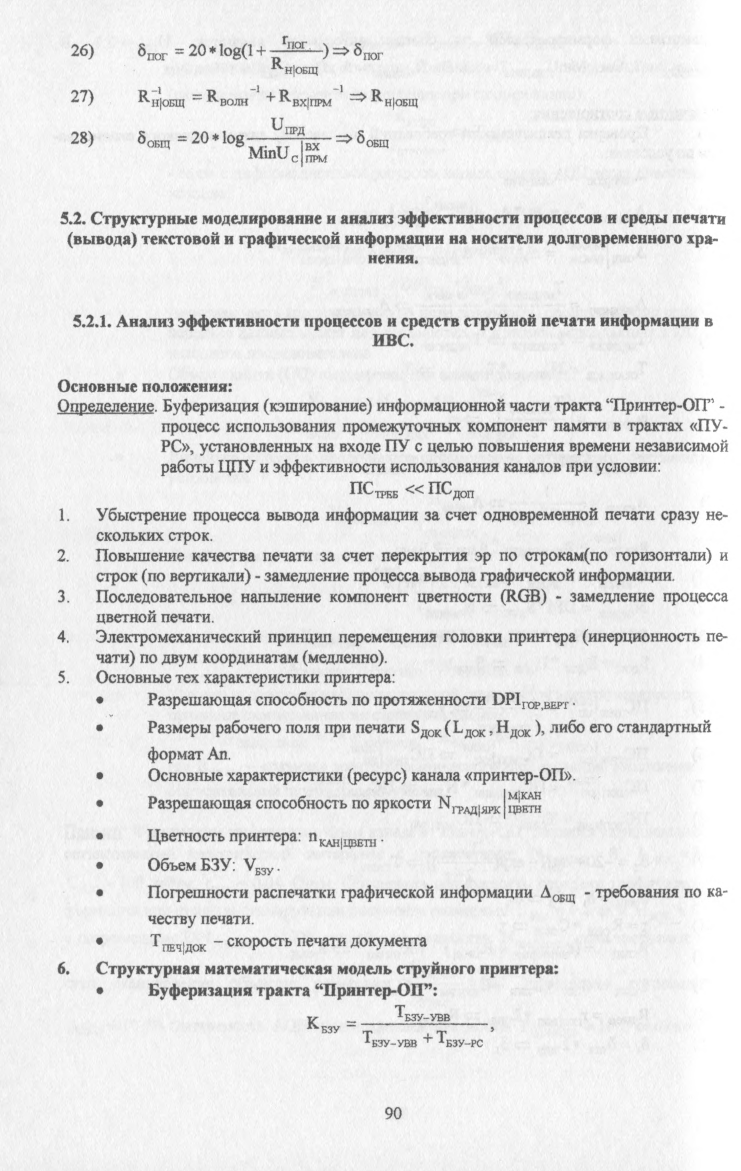K.бзу: (305, 1015, 341, 1036)
T.бзу-рс: (436, 1029, 483, 1048)
T.бзу-увв: (361, 1029, 417, 1050), (392, 1002, 450, 1021)
group: (300, 1000, 488, 1051)
